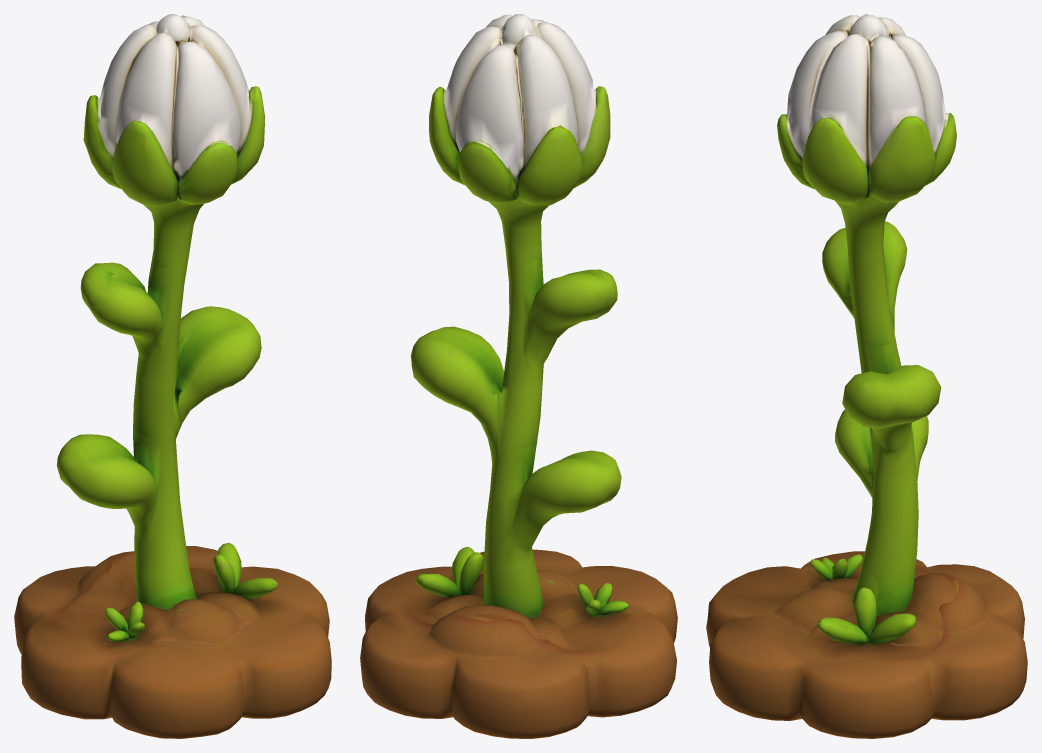
File: daisy_s3.glb
3 views of the same model, side by side, from view 1: azimuth 30°, elevation 25°; view 2: azimuth 150°, elevation 25°; view 3: azimuth 270°, elevation 25° (orthographic).
Visible parts, largest first — view 1: tripo_node_b35a7e12-d6ca-49a0-80f5-72bd81b5d0a2; view 2: tripo_node_b35a7e12-d6ca-49a0-80f5-72bd81b5d0a2; view 3: tripo_node_b35a7e12-d6ca-49a0-80f5-72bd81b5d0a2.
Part boxes in pixels (x1,y1,x2,y2): tripo_node_b35a7e12-d6ca-49a0-80f5-72bd81b5d0a2: (14,14,331,738); tripo_node_b35a7e12-d6ca-49a0-80f5-72bd81b5d0a2: (360,14,677,738); tripo_node_b35a7e12-d6ca-49a0-80f5-72bd81b5d0a2: (706,14,1027,738).
Size of the model in its own units: 0.4629 by 0.998 by 0.4434.
Materials: 1 (1 with a texture image).
